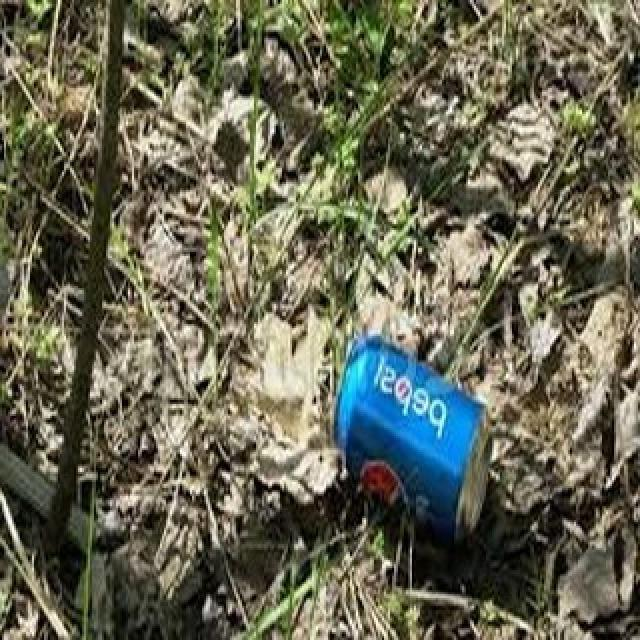can: (334, 338, 494, 536)
